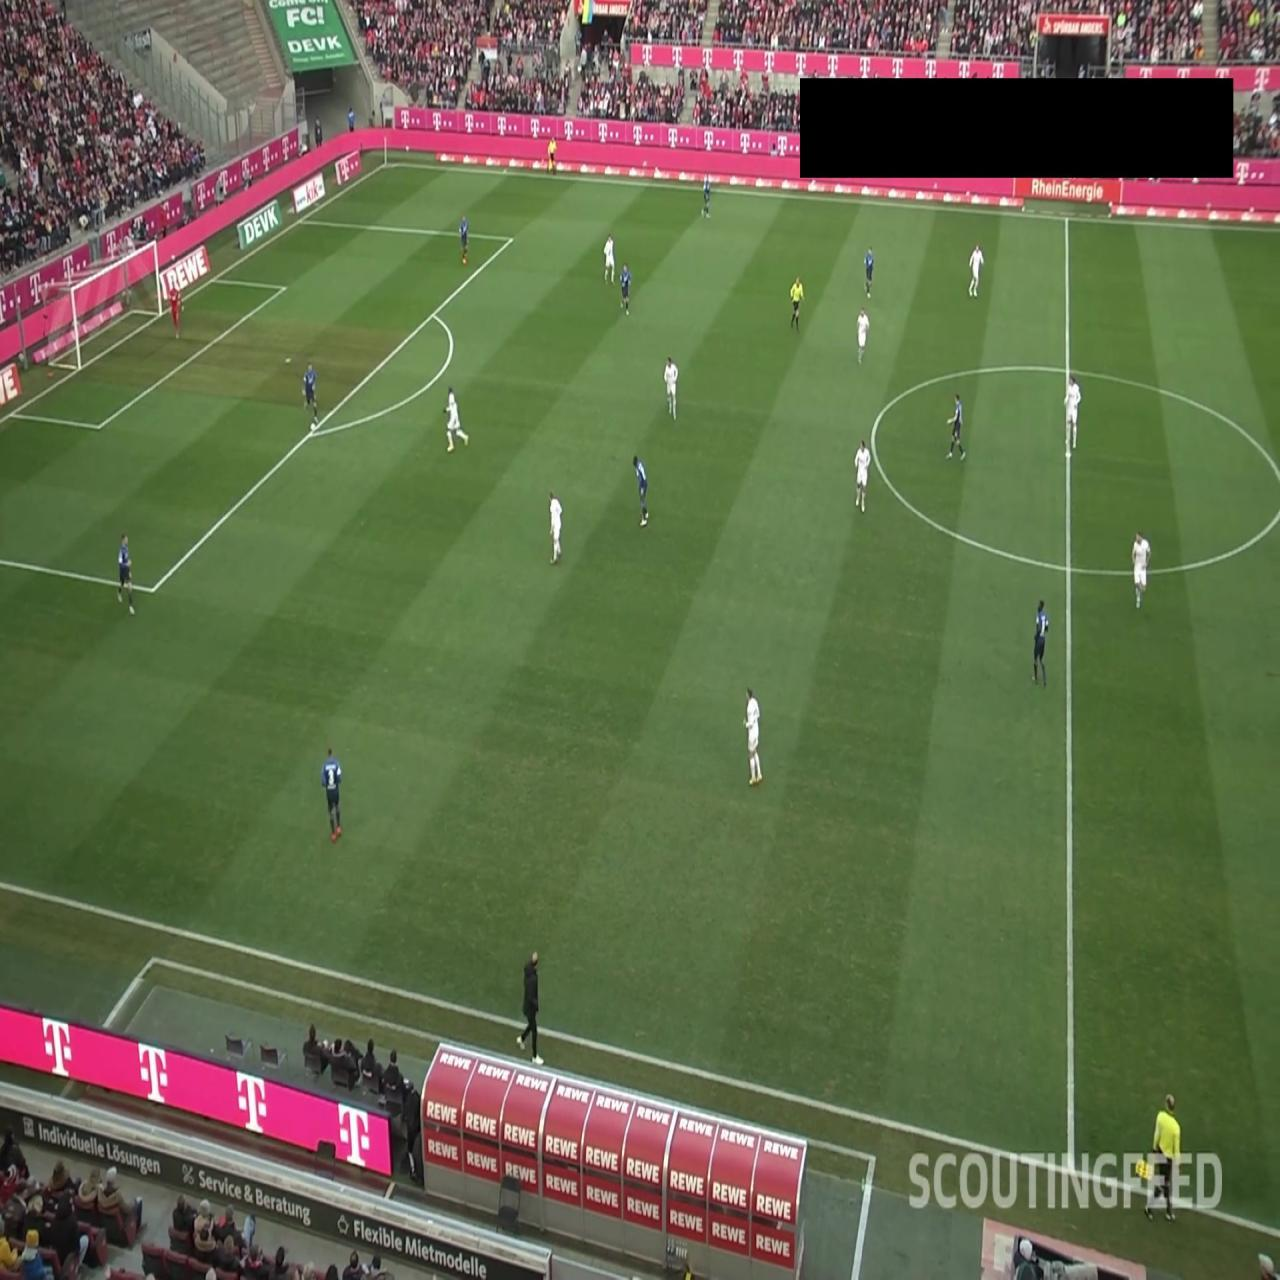Ball: (308, 421, 316, 436)
GoalKeeper: (167, 276, 185, 344)
Player: (320, 746, 342, 842), (742, 685, 762, 786), (443, 386, 469, 452), (116, 531, 136, 614), (1032, 598, 1050, 688), (945, 390, 967, 461), (1131, 531, 1151, 609), (1064, 374, 1082, 452), (300, 361, 320, 426), (854, 438, 871, 512), (632, 454, 649, 526), (548, 488, 562, 564), (663, 356, 679, 420), (967, 244, 985, 298), (856, 306, 870, 366), (862, 244, 875, 302), (602, 233, 616, 286), (619, 262, 632, 316), (458, 213, 470, 267), (702, 173, 711, 218)
Referee: (1136, 1092, 1182, 1226), (789, 274, 805, 332), (544, 135, 558, 177)
